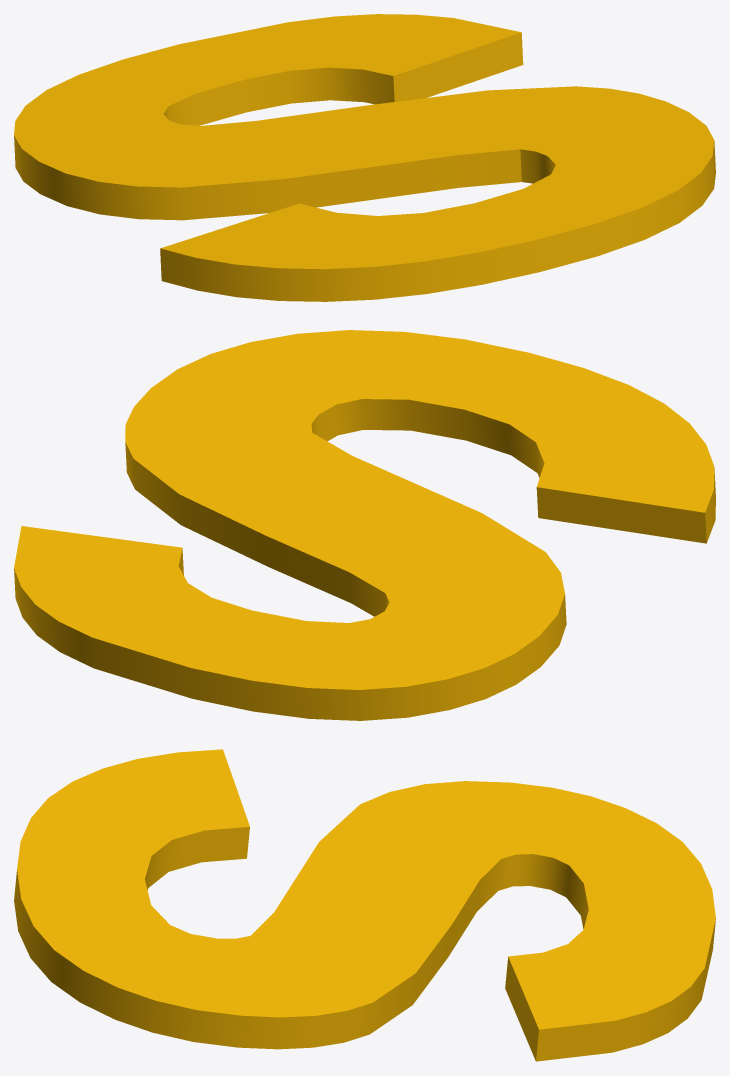
Rendered from original-12.obj.
The picture shows the model from 3 angles, top to bottom: view 1: azimuth 30°, elevation 25°; view 2: azimuth 150°, elevation 25°; view 3: azimuth 270°, elevation 25°; orthographic projection.
Parts seen in each view (by area): view 1: mesh84/mesh84-geometry#mesh84-geometry; view 2: mesh84/mesh84-geometry#mesh84-geometry; view 3: mesh84/mesh84-geometry#mesh84-geometry.
Part boxes in pixels (<box>): mesh84/mesh84-geometry#mesh84-geometry: <box>14,14,715,301</box>; mesh84/mesh84-geometry#mesh84-geometry: <box>14,330,715,720</box>; mesh84/mesh84-geometry#mesh84-geometry: <box>14,749,715,1061</box>.
Size of the model in its own units: 0.0122 by 0.00187 by 0.0137.
